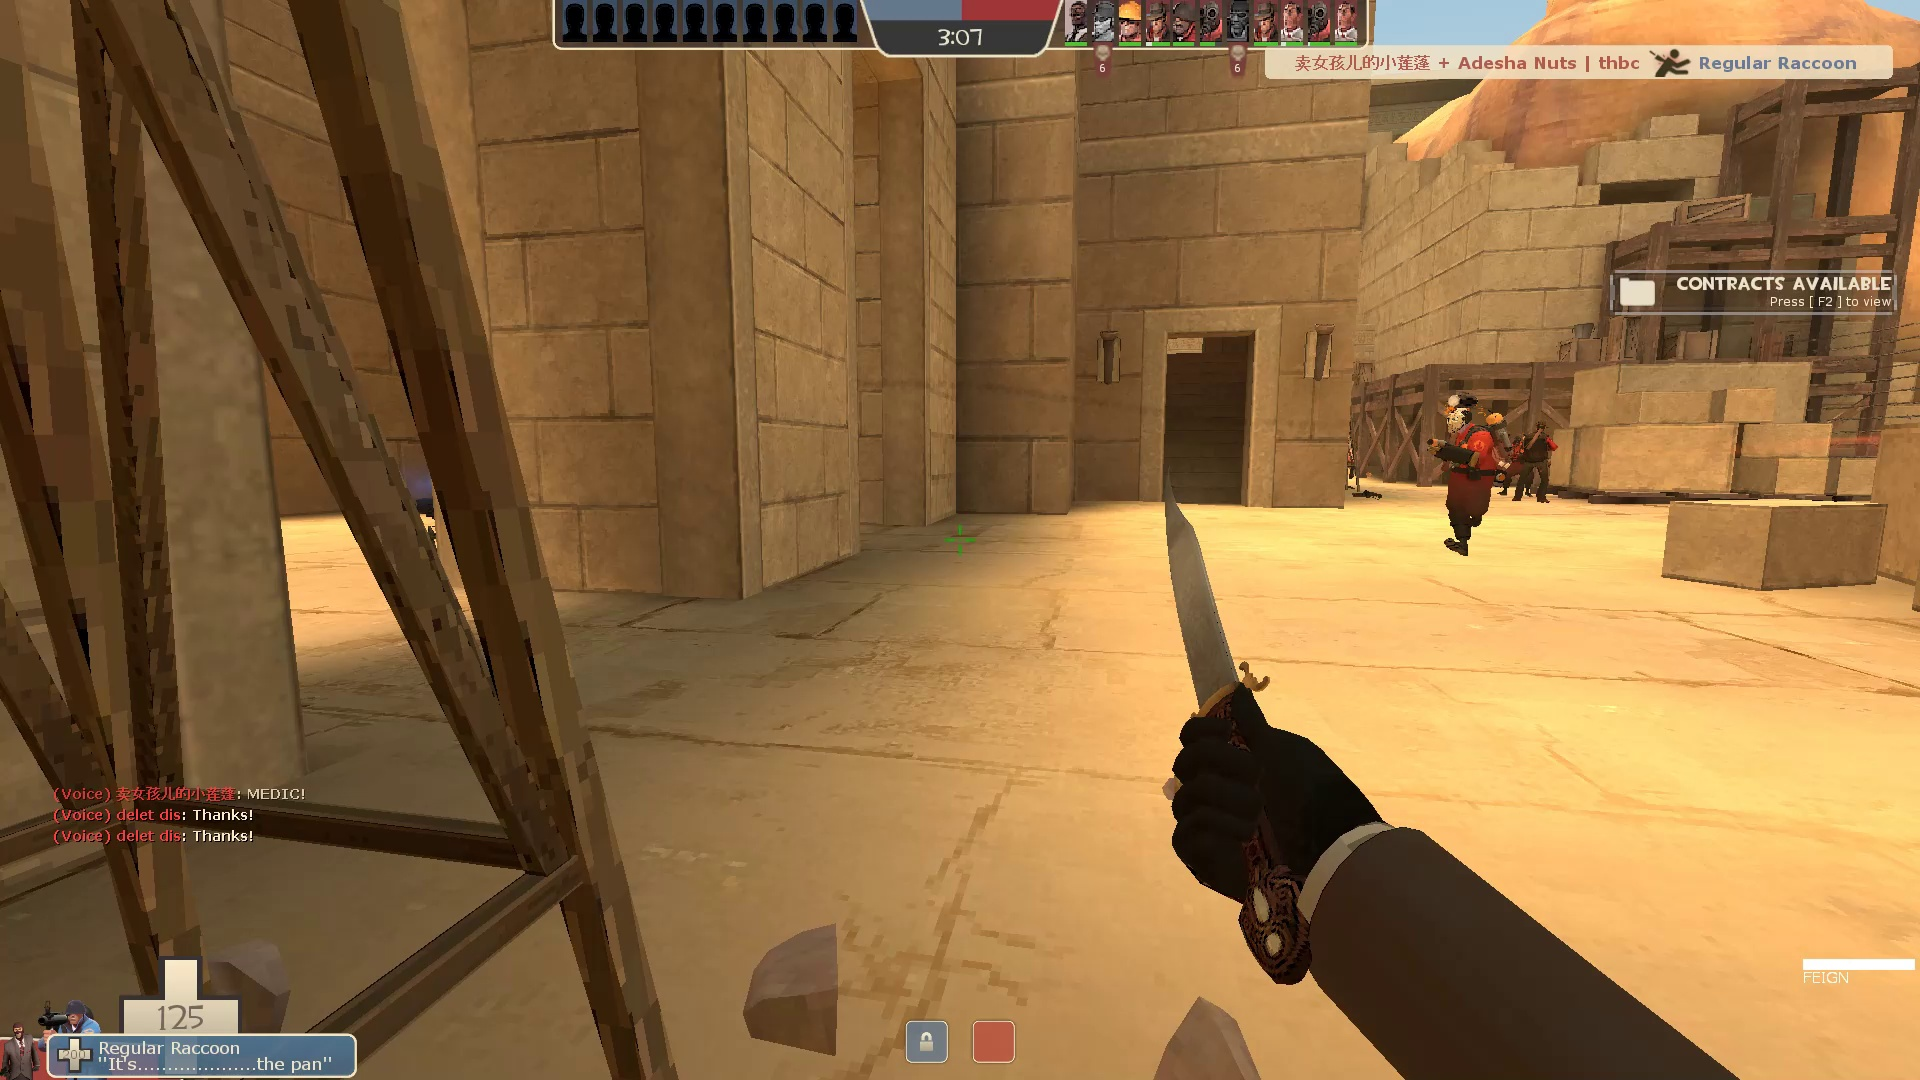red_pyro: (1418, 401, 1503, 563), (1498, 430, 1538, 498)
red_sniper: (1513, 418, 1560, 509)
